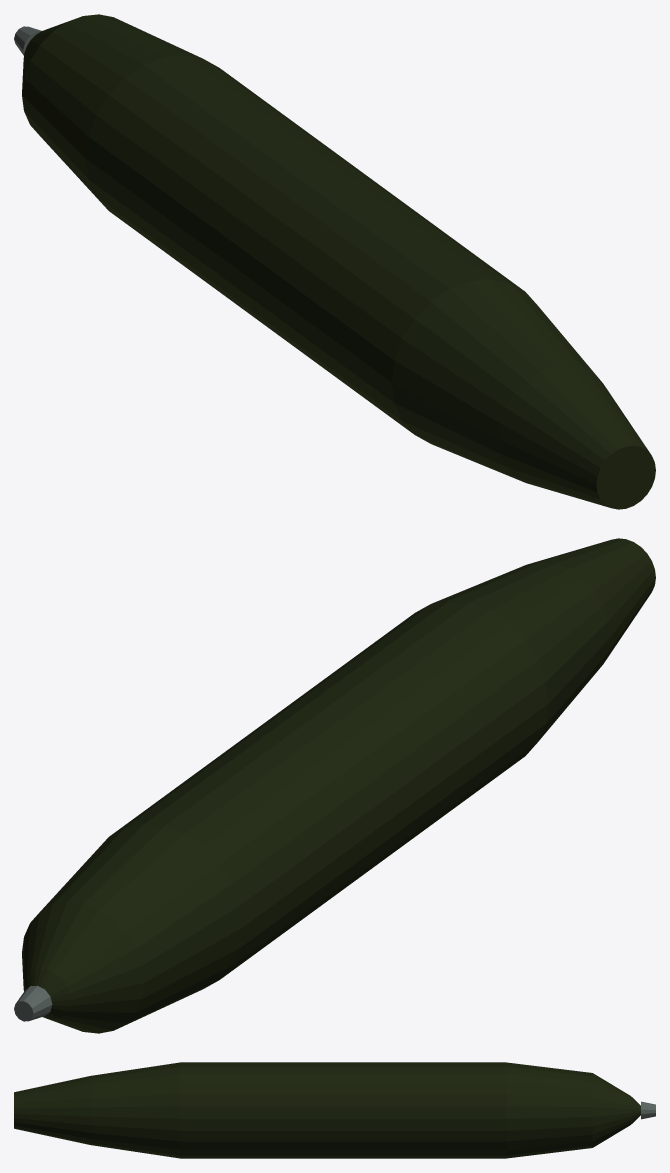
The model's file is BombLight__Bomb.obj.
The picture shows the model from 3 angles, top to bottom: view 1: azimuth 30°, elevation 25°; view 2: azimuth 150°, elevation 25°; view 3: azimuth 270°, elevation 25°; orthographic projection. The views are drawn at different scales.
Visible parts, largest first — view 1: Bomb_forged_casing; view 2: Bomb_forged_casing, Nose_fuze_cap; view 3: Bomb_forged_casing, Nose_fuze_cap.
Part boxes in pixels (x1,y1,x2,y2): Bomb_forged_casing: [22, 14, 655, 509]; Bomb_forged_casing: [22, 538, 655, 1033]; Nose_fuze_cap: [14, 985, 52, 1021]; Bomb_forged_casing: [14, 1062, 640, 1158]; Nose_fuze_cap: [641, 1101, 655, 1119].
Size of the model in its own units: 0.29 by 0.29 by 1.93.
